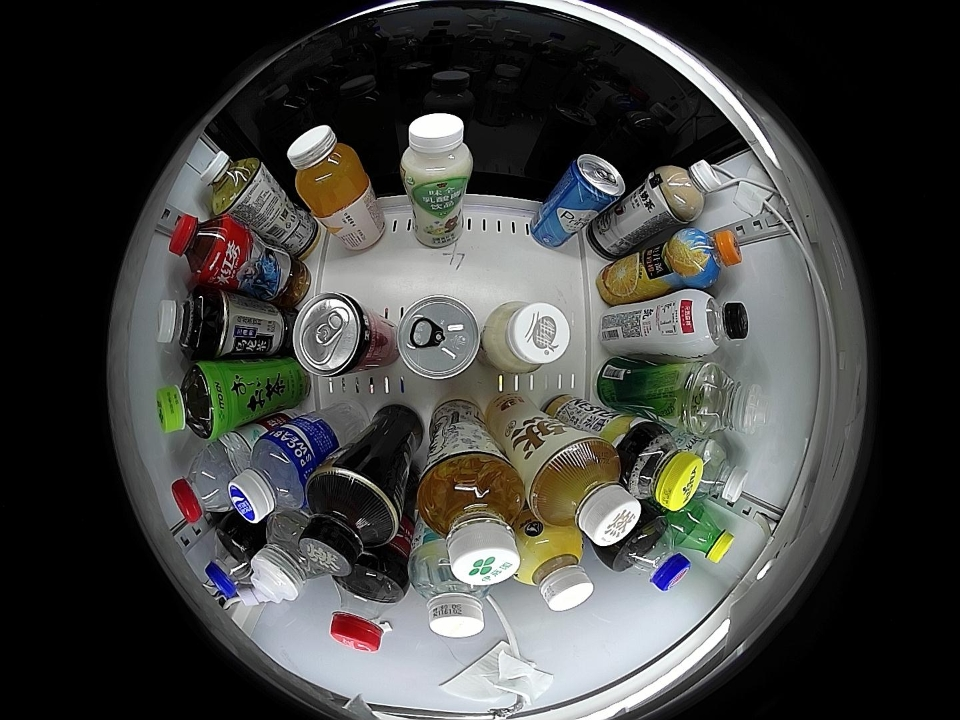asamu: (513, 530, 593, 612)
baicha: (416, 453, 526, 586), (199, 150, 263, 214)
baishikele-2: (612, 516, 690, 592), (205, 524, 262, 599)
baokuangli: (227, 433, 312, 524)
binghongcha: (168, 213, 236, 284)
chacui: (618, 421, 704, 511)
guolicheng: (669, 226, 743, 289)
jianjiao: (249, 516, 323, 603), (688, 363, 767, 436)
kele-b: (329, 561, 406, 654)
lingdukele: (291, 292, 379, 378)
nongfushanquan: (171, 444, 240, 523)
qingdaowangzi-2: (565, 154, 625, 210)
qinningshui: (409, 547, 491, 638), (688, 437, 749, 505)
rancha-1: (297, 467, 402, 576)
rancha-2: (530, 437, 641, 547)
weic: (286, 125, 370, 215)
weiweidounai: (484, 301, 571, 374)
wuhounaicha: (652, 158, 725, 224)
wulongcha: (156, 288, 219, 358)
xuebi-b: (672, 503, 735, 565)
yezhi: (396, 296, 482, 381)
yitengyuan: (156, 363, 227, 439)
yousuanru: (399, 113, 474, 191)
yuanqishui: (674, 290, 751, 358)
